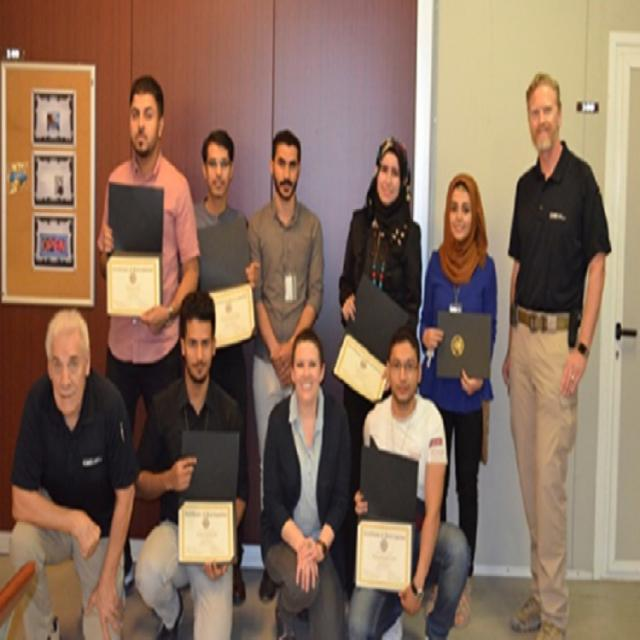body: (499, 70, 614, 638), (96, 71, 202, 593), (8, 303, 138, 639), (345, 323, 472, 638), (132, 290, 246, 640), (417, 172, 498, 636), (248, 128, 324, 607), (190, 129, 260, 606), (257, 326, 353, 638), (340, 136, 425, 468), (40, 111, 69, 256)
